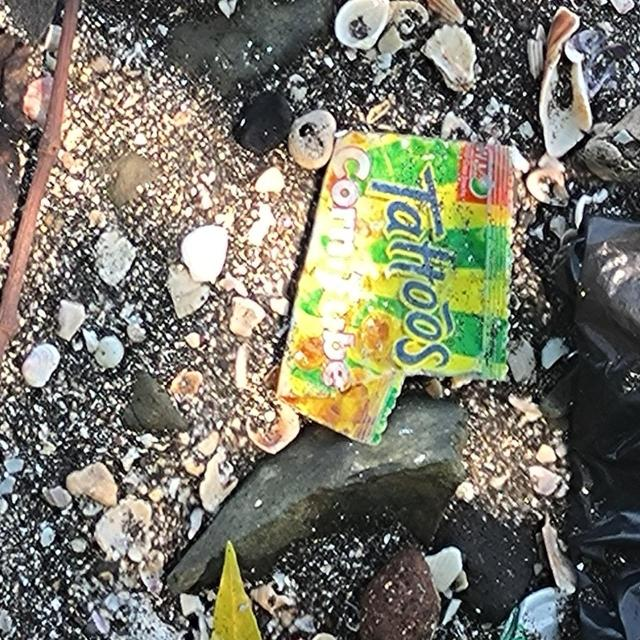plastic_waste: (275, 129, 519, 450)
